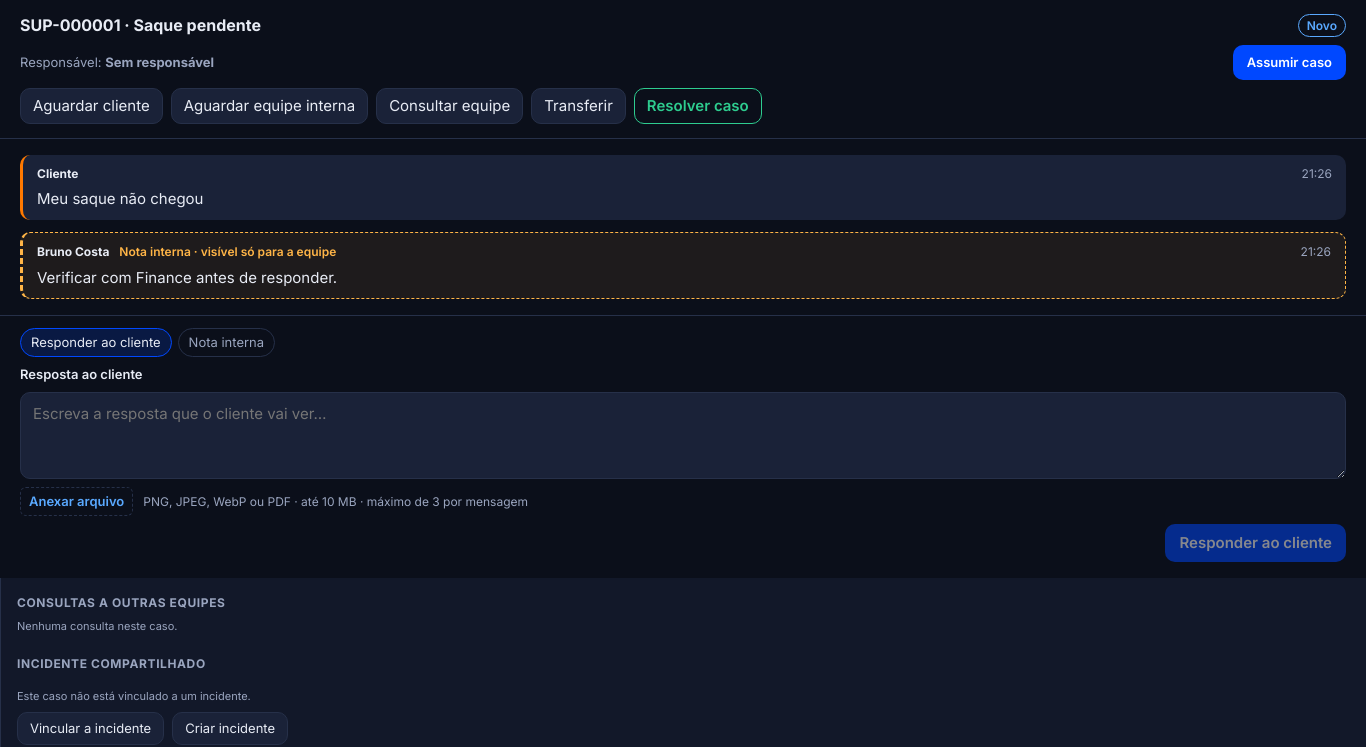
Scenario: StaffCaseView › take assigns the case to the current agent and notifies the workspace
Click the button "Assumir caso" at (1289, 63), box left=1233, top=45, right=1346, bottom=80
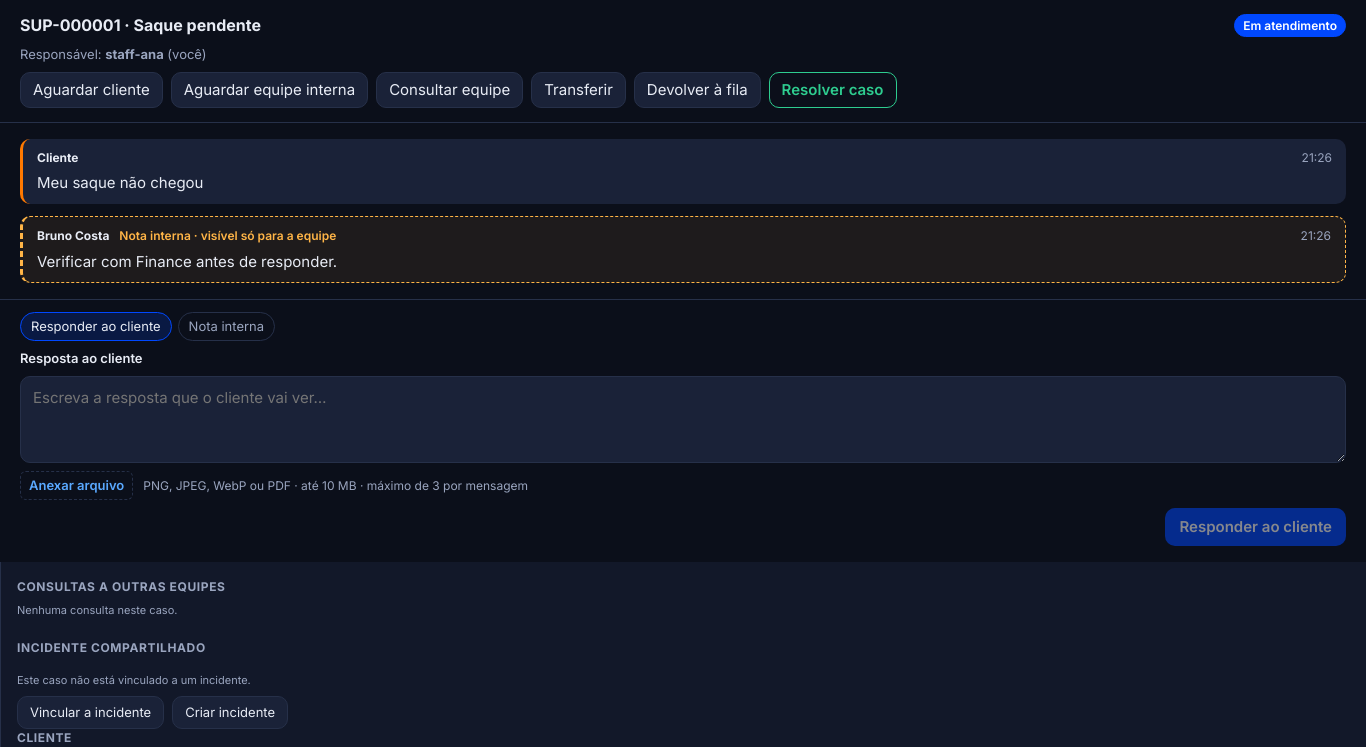
expect the text "staff-ana" is shown: met, box left=105, top=46, right=164, bottom=62
expect the button "Assumir caso" is gone: met
